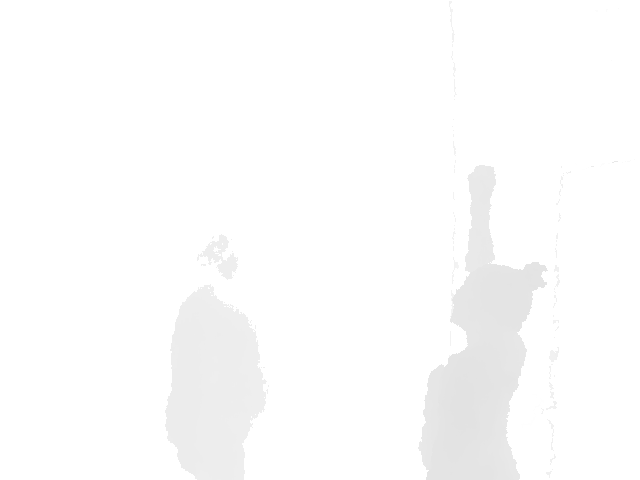hand: (467, 164, 497, 216)
head: (449, 264, 532, 345)
person: (417, 164, 548, 480)
